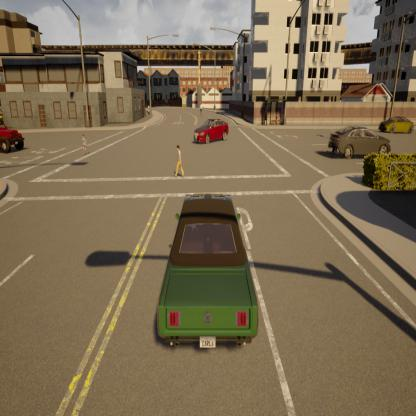Cars: (156, 194, 258, 349), (330, 126, 392, 160), (0, 117, 25, 154), (194, 118, 229, 143), (380, 115, 414, 135), (199, 103, 203, 116)
Pedestrian: (174, 144, 184, 180), (81, 133, 88, 157)
